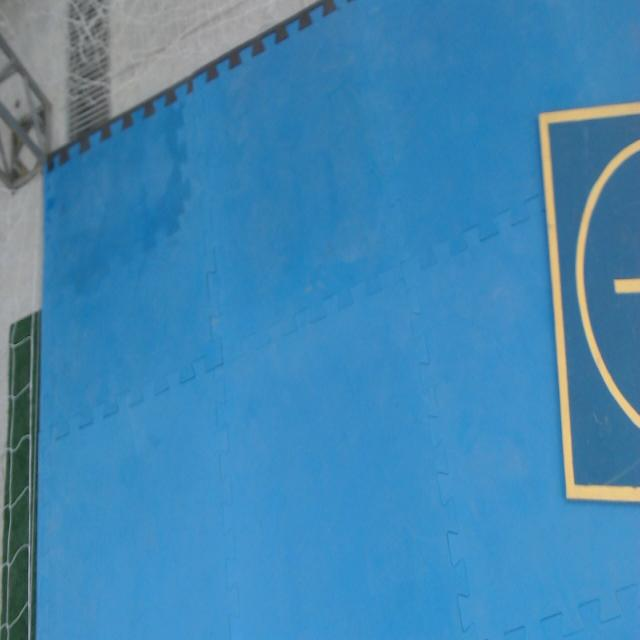base_pouso: (538, 100, 639, 505)
